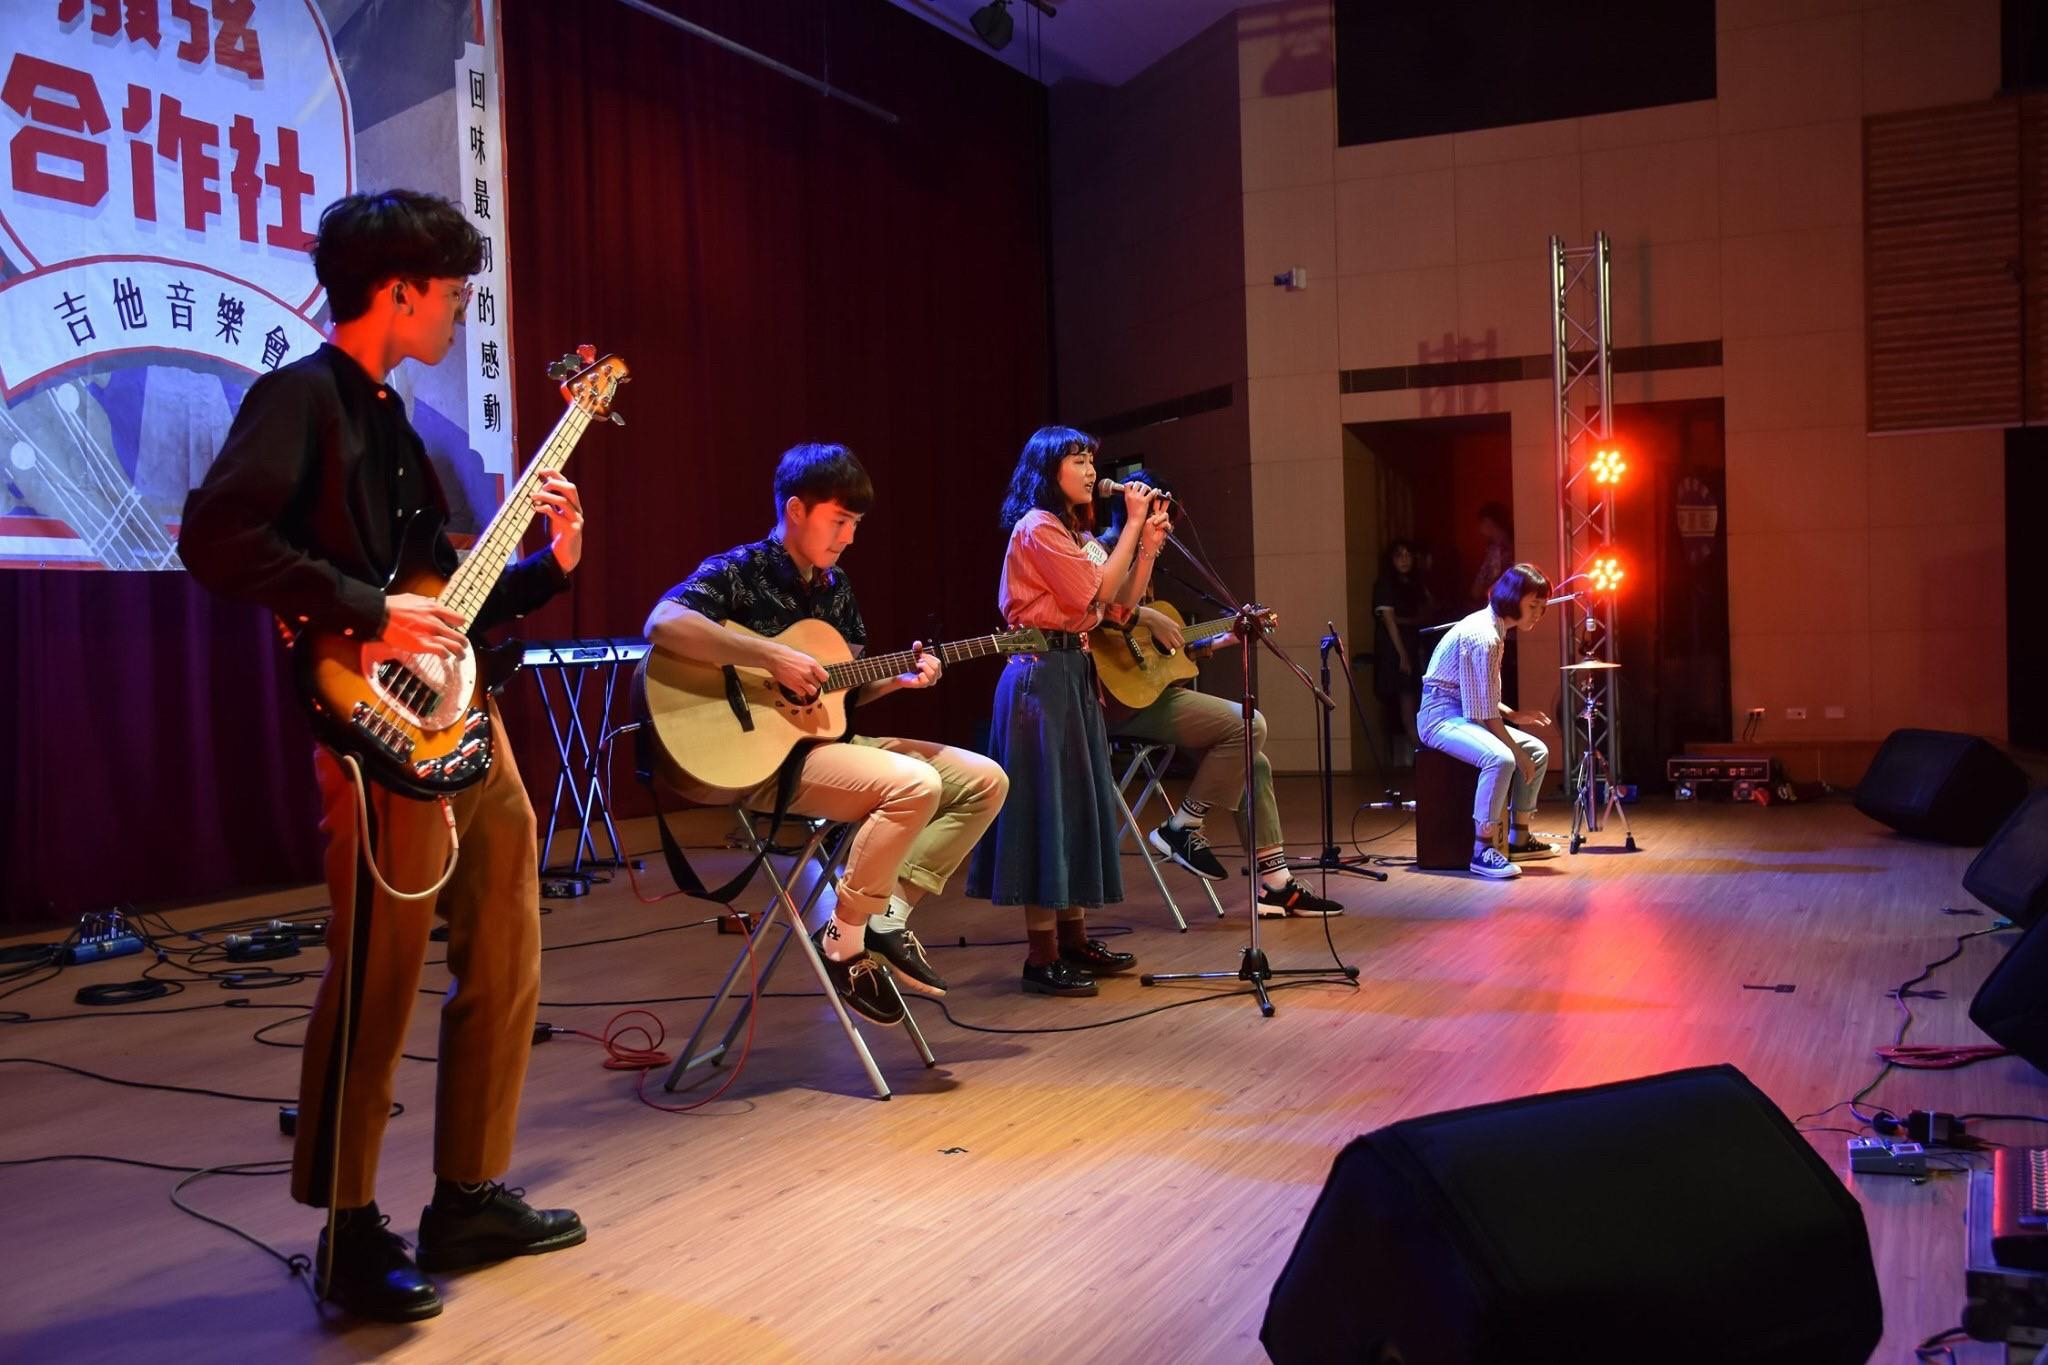people: (249, 192, 569, 1263), (707, 439, 946, 995), (1084, 510, 1337, 942), (990, 439, 1131, 1004), (1419, 560, 1557, 880), (1375, 551, 1440, 774)
